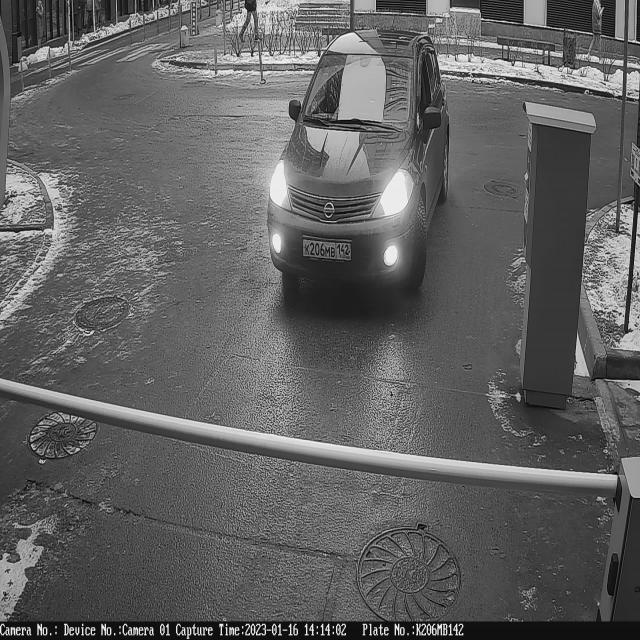car-plate-numbers: (301, 231, 356, 267)
